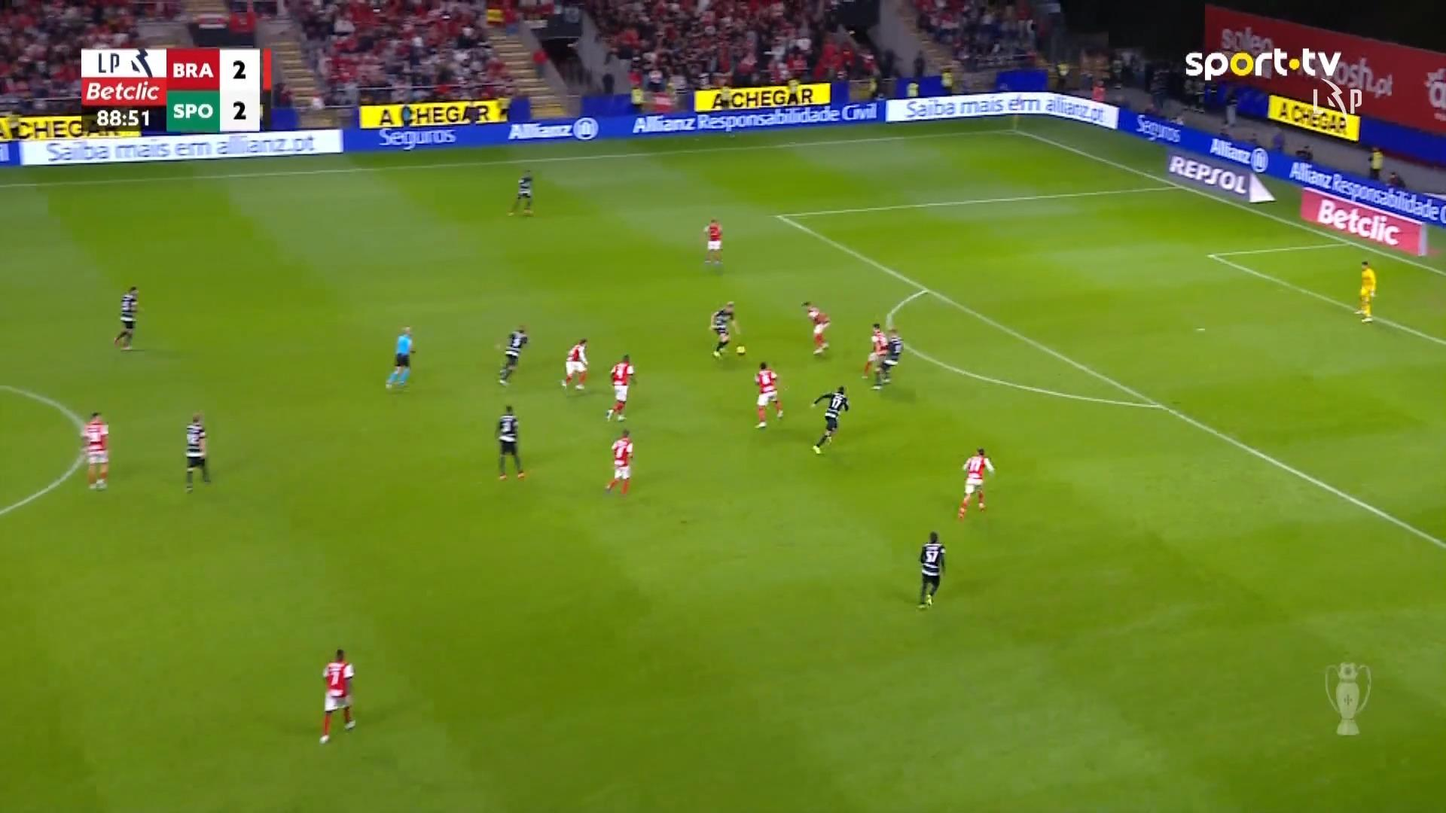ball: (736, 345, 746, 355)
goalkeeper: (1356, 259, 1376, 322)
player: (319, 647, 355, 743), (810, 385, 850, 455), (956, 446, 994, 519), (79, 411, 110, 489), (495, 403, 525, 480), (917, 531, 945, 609), (184, 413, 211, 492), (605, 353, 636, 421), (871, 327, 904, 388), (753, 361, 783, 428), (604, 428, 633, 495), (496, 325, 528, 385), (709, 300, 739, 358), (113, 285, 139, 350), (801, 300, 831, 355), (560, 337, 589, 390), (862, 321, 888, 380), (507, 169, 534, 216), (702, 217, 723, 264)
referee: (385, 325, 415, 388)
